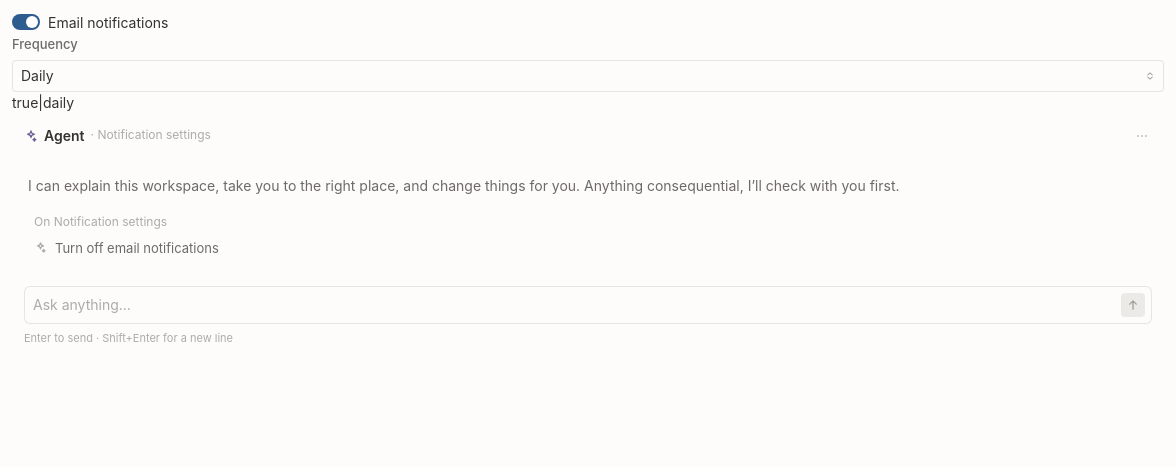
Test: agent-operated UI › stops a turn without leaving a confirmation hanging
The image size is (1176, 467).
Step 1. Type "turn off email" into the text box named "Message the agent" → x=574, y=305, box [33,293,1115,317]
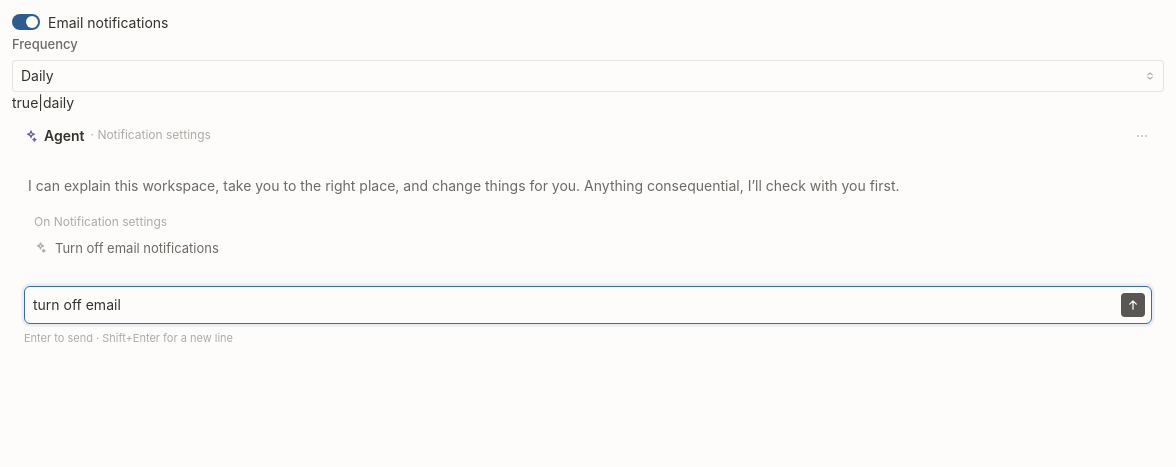
Step 2. Click the button named "Send" → x=1133, y=305, box [1121,293,1145,317]
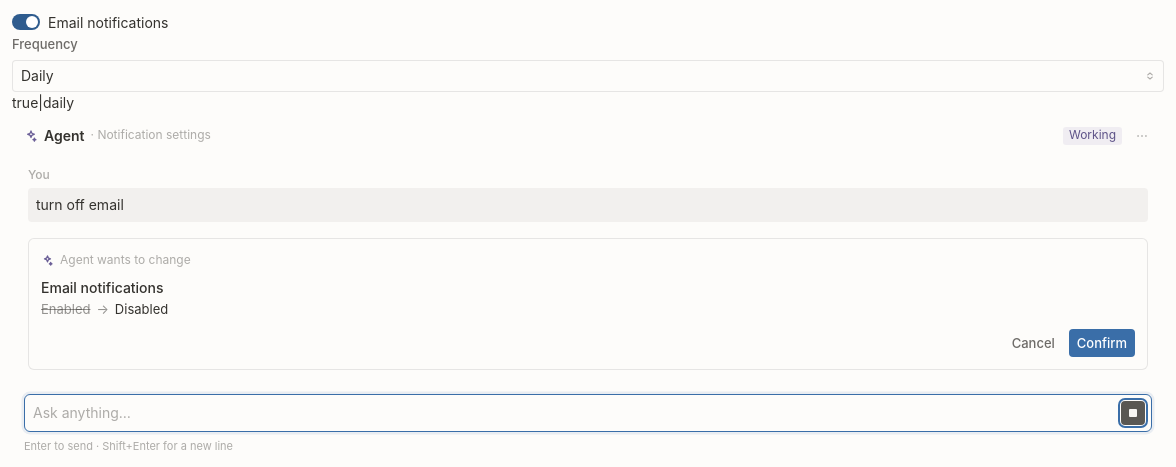
Check: the element "Agent wants to change" is shown, box [28,238,1148,370]
Step 3. Click the button named "Stop generating" → x=1133, y=413, box [1121,401,1145,425]
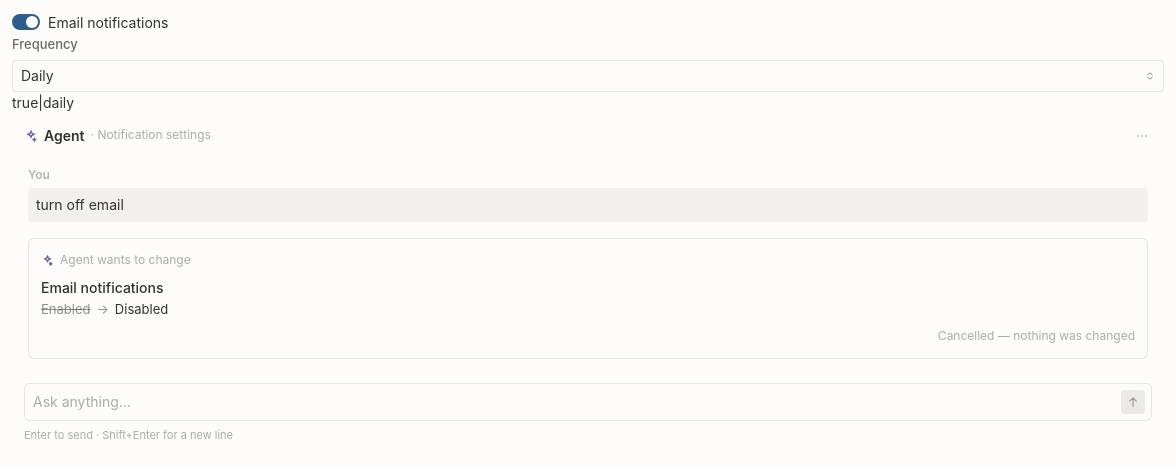
Check: the text with test id "probe" reads "true|daily", box [12,94,74,111]
Check: the text "Cancelled — nothing was changed" is shown, box [938,328,1135,343]
